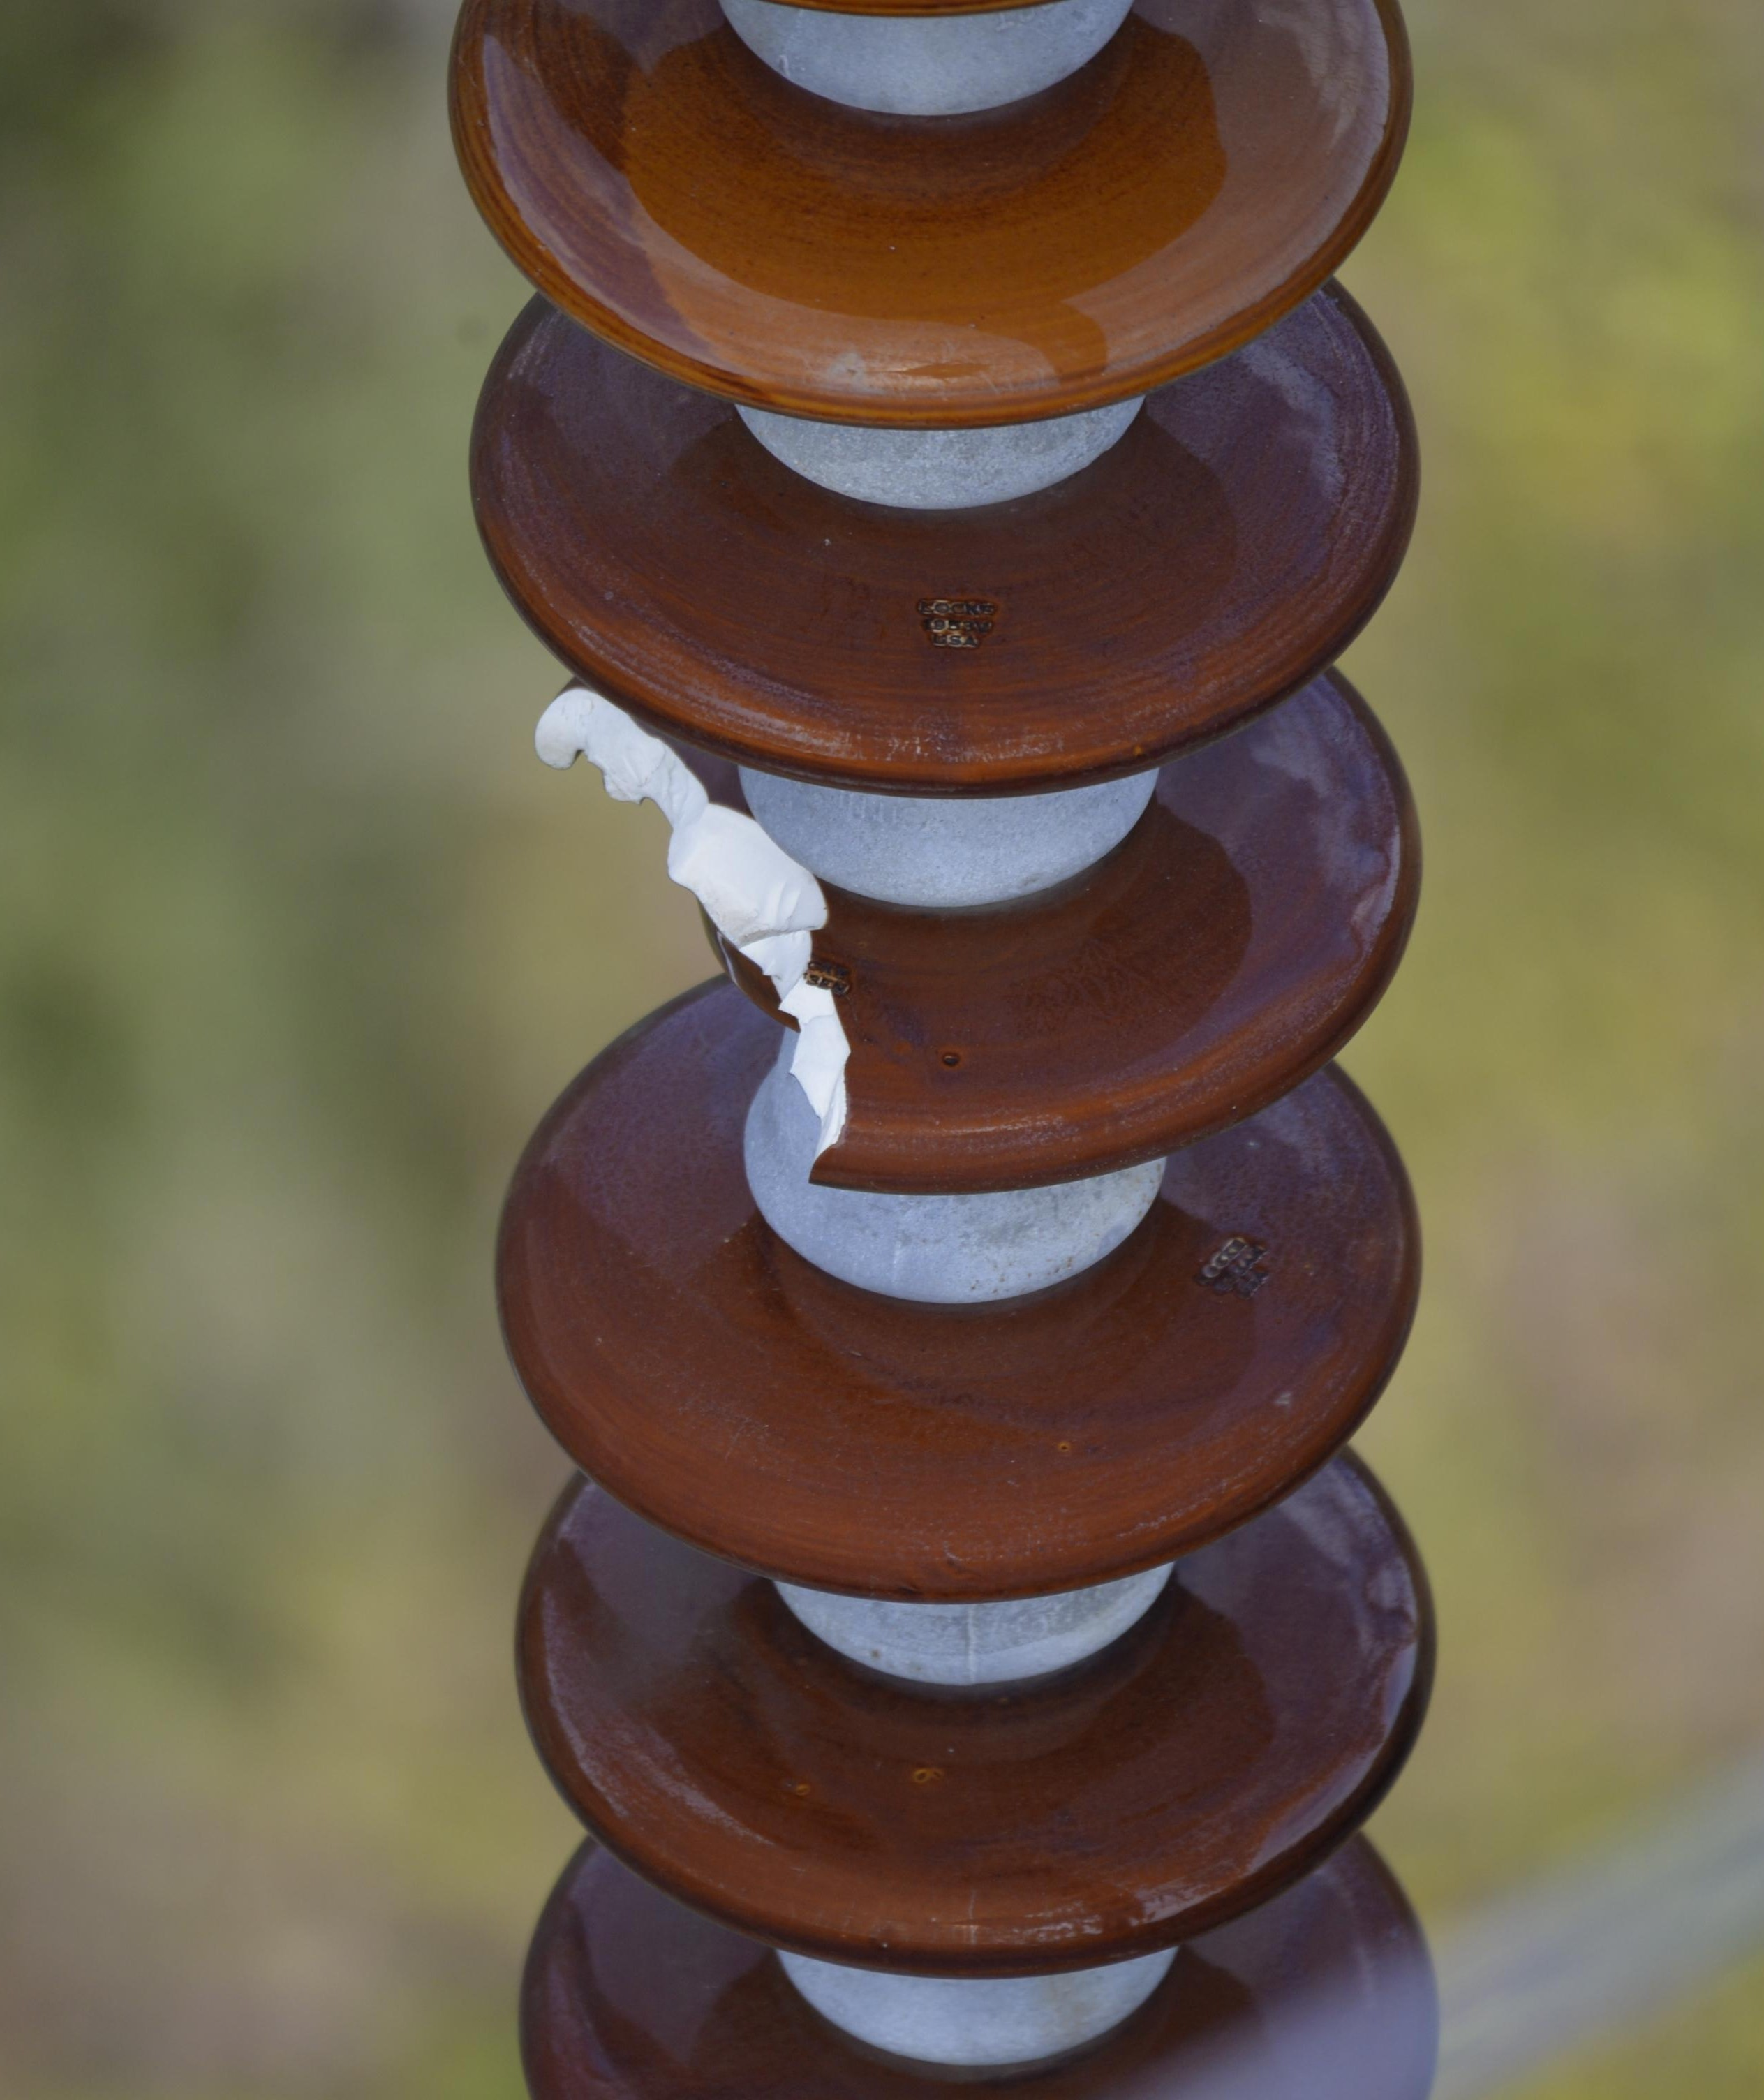insulator breakage: (446, 675, 1438, 1211)
